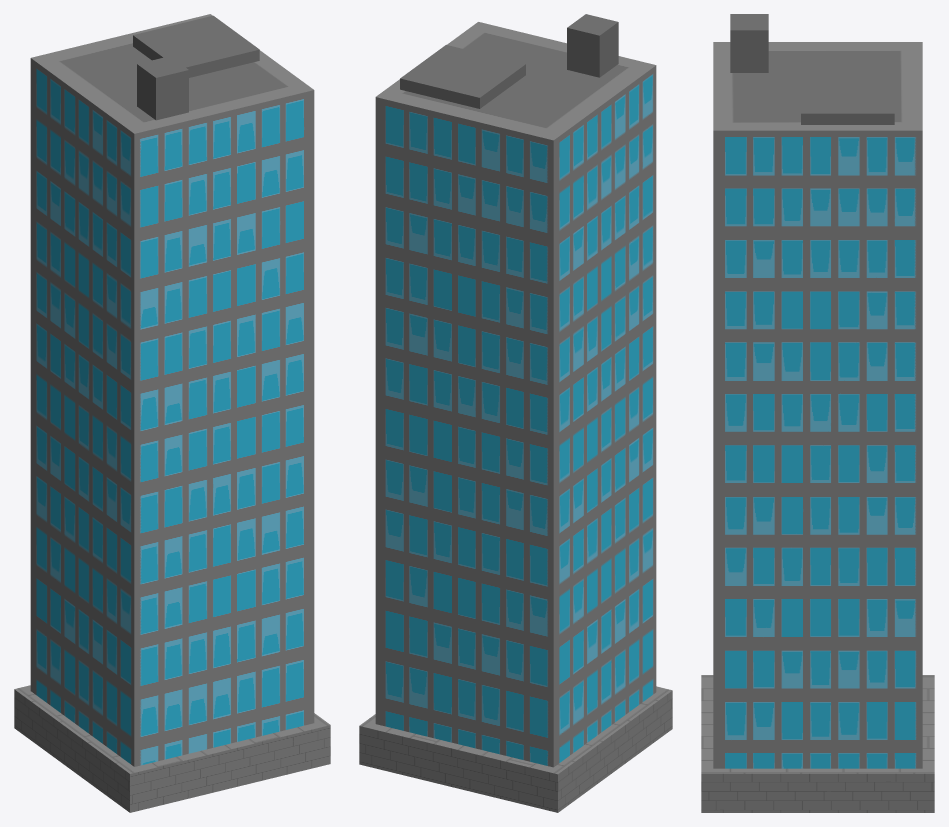
Rendered from skyscratcher1.fbx.
3 views of the same model, side by side, from view 1: azimuth 30°, elevation 25°; view 2: azimuth 150°, elevation 25°; view 3: azimuth 270°, elevation 25° (orthographic).
Visible parts, largest first — view 1: SkyScratcher1; view 2: SkyScratcher1; view 3: SkyScratcher1.
Boxes of the visible parts, bbox=[...] form: SkyScratcher1: bbox=[14, 14, 330, 812]; SkyScratcher1: bbox=[359, 14, 672, 812]; SkyScratcher1: bbox=[701, 14, 934, 812].
Size of the model in its own units: 130 by 441 by 130.
